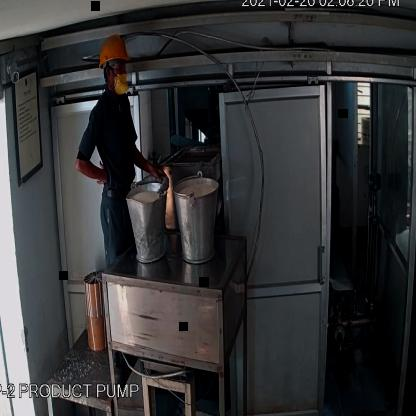helmet: (97, 31, 133, 76)
